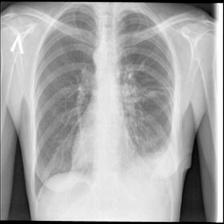tuberculosis: (29, 4, 182, 206)
